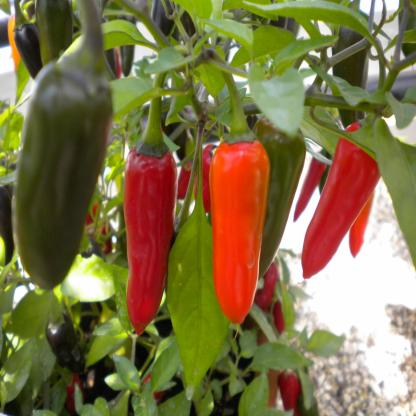--: (204, 38, 271, 335), (121, 46, 180, 344)
